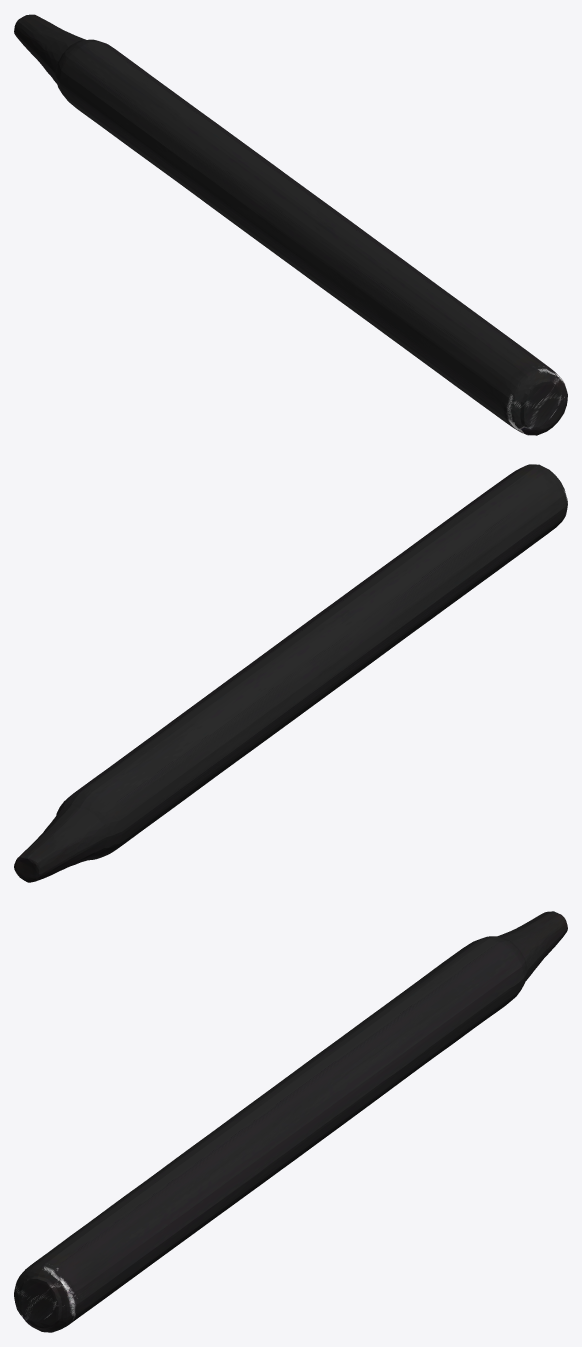
3 renders of one model, top to bottom at view 1: azimuth 30°, elevation 25°; view 2: azimuth 150°, elevation 25°; view 3: azimuth 330°, elevation 25°, orthographic.
Visible parts, largest first — view 1: pen_26.obj; view 2: pen_26.obj; view 3: pen_26.obj.
Part boxes in pixels (x1,y1,x2,y2): pen_26.obj: (14, 14, 567, 435); pen_26.obj: (14, 464, 567, 882); pen_26.obj: (14, 911, 567, 1332).
Bounding box in the file's own units: 0.0109 × 0.0108 × 0.15.
Materials: 1 (1 with a texture image).
